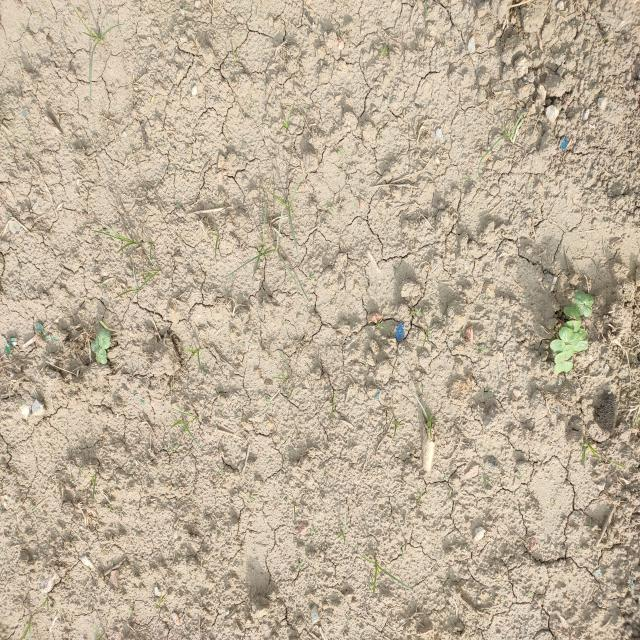seedling_s2: (559, 326, 580, 346), (550, 339, 573, 354), (554, 349, 575, 365), (574, 291, 586, 316), (564, 307, 581, 322), (554, 361, 574, 373), (584, 294, 593, 317), (95, 347, 107, 364), (565, 320, 581, 332), (573, 340, 588, 352), (98, 336, 111, 349), (99, 328, 111, 342), (91, 335, 100, 353), (577, 328, 586, 340)
